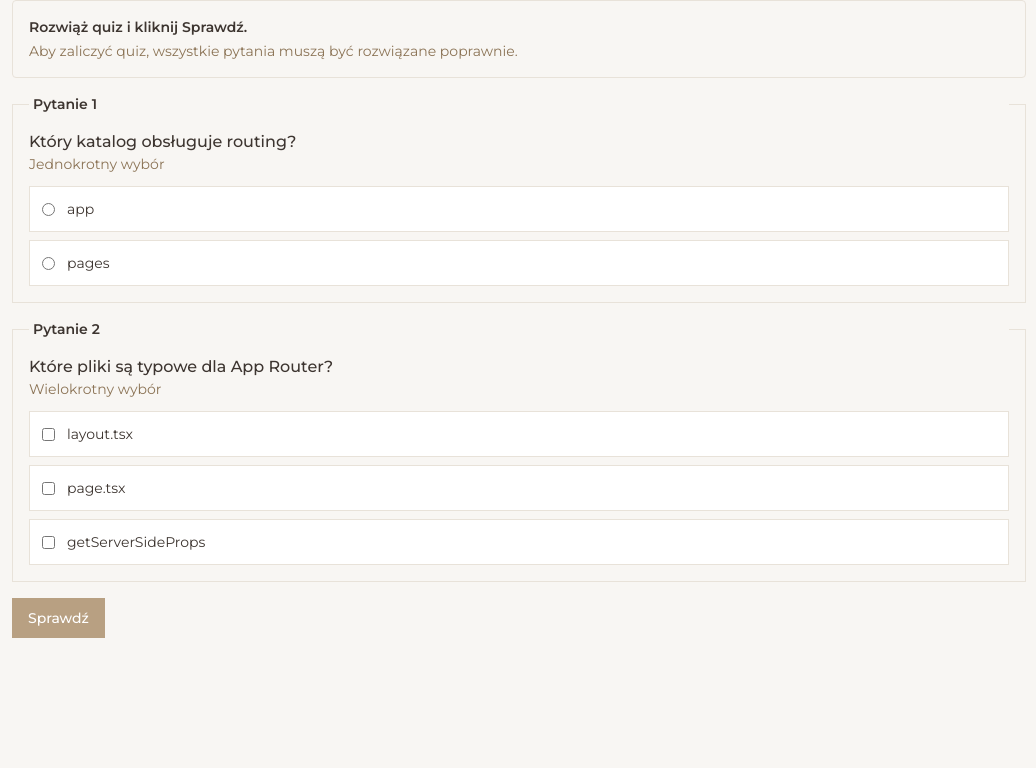
Test case: QuizSection › hides attempt feedback after changing an answer until Sprawdź is clicked again
Click the radio button labelled "app".
click(48, 209)  # box [42,202,55,216]
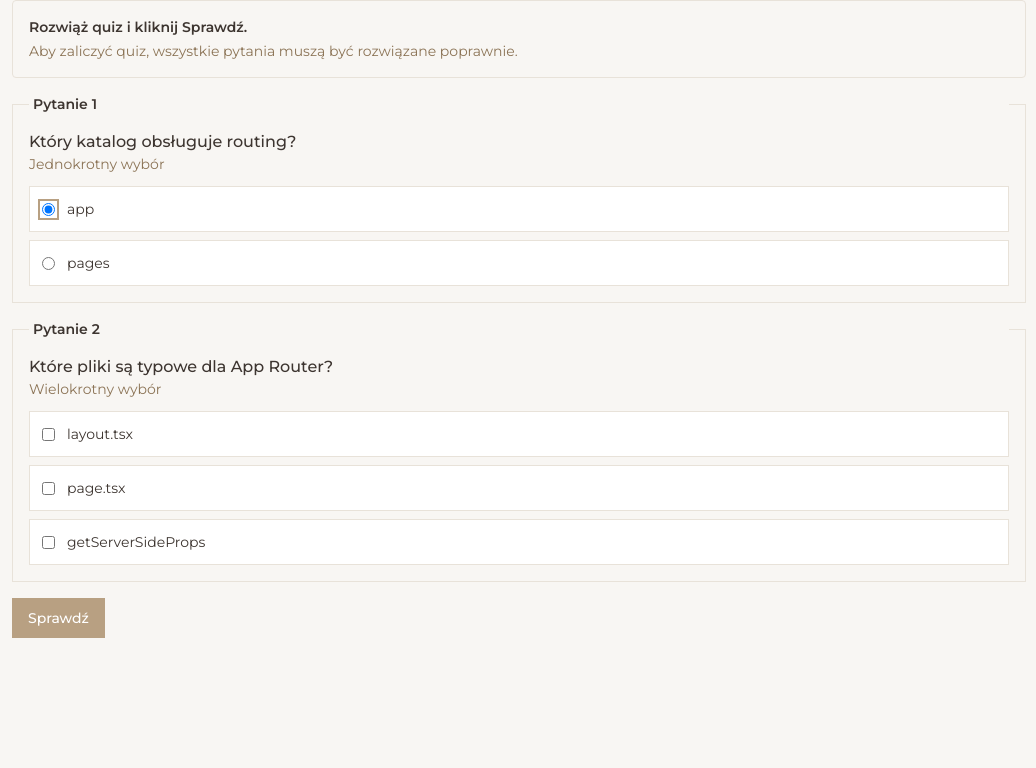
Click the button "Sprawdź".
click(58, 618)  # box [12,598,105,638]
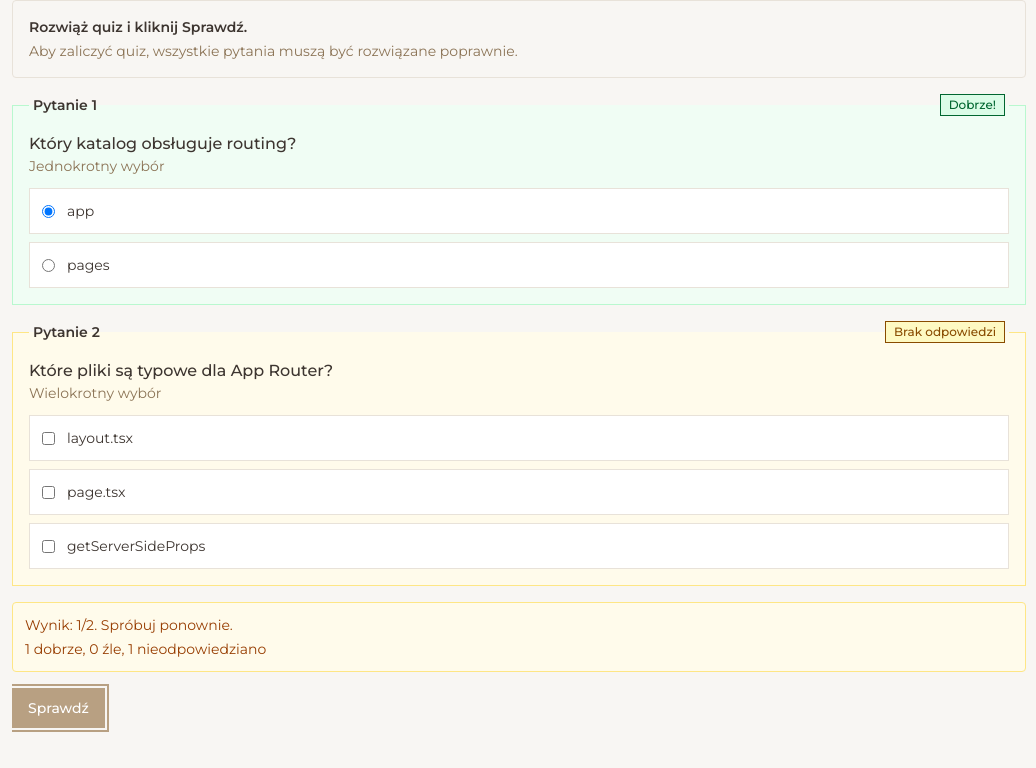
Expected: the text "Dobrze!" is shown, [940,94,1005,116]
Click the checkbox labelled "layout.tsx".
click(48, 438)  # box [42,432,55,444]
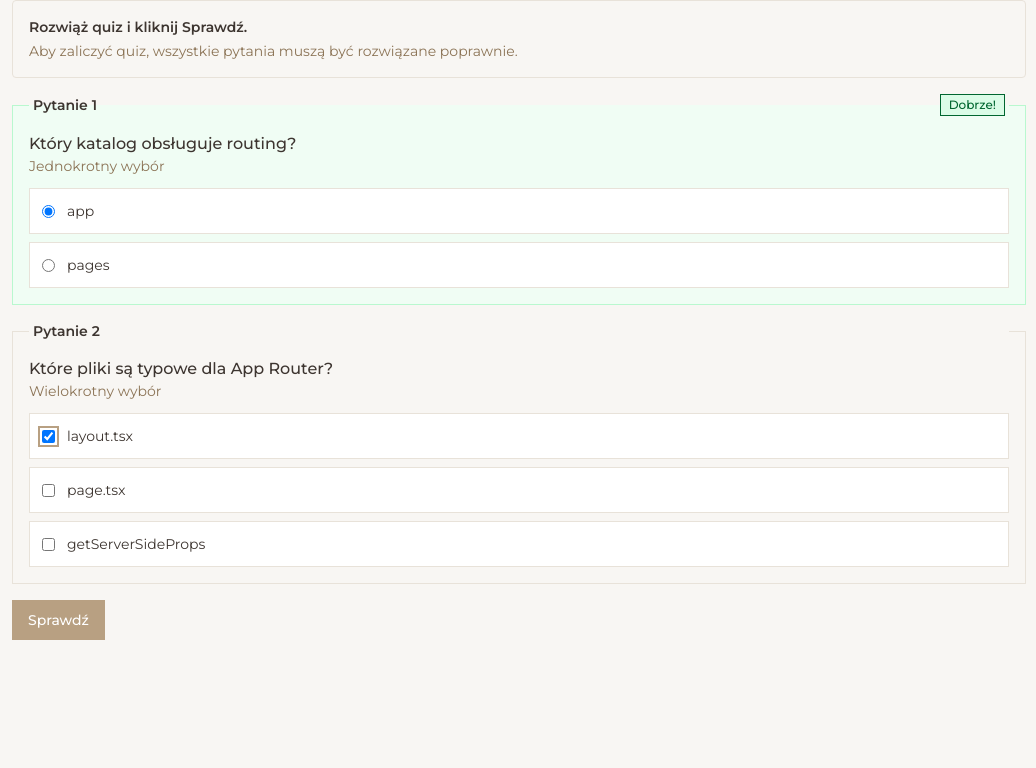
Expected: the text "Dobrze!" is shown, [940,94,1005,116]
Expected: the message "Wynik: 1/2. Spróbuj ponownie. 1 dobrze, 0 źle, 1 nieodpowiedziano" is gone
Click the button "Sprawdź".
click(58, 620)  # box [12,600,105,640]
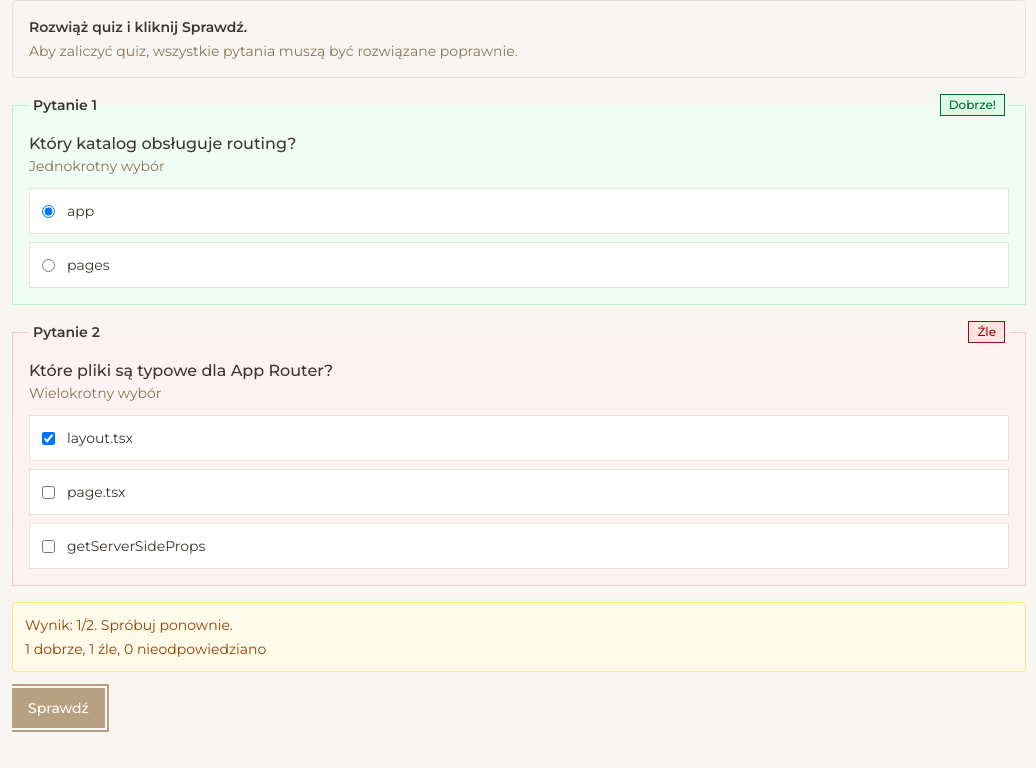
Expected: the text "Źle" is shown, [968,321,1005,343]
Expected: the message shows "1 dobrze, 1 źle, 0 nieodpowiedziano", [25,640,266,658]
